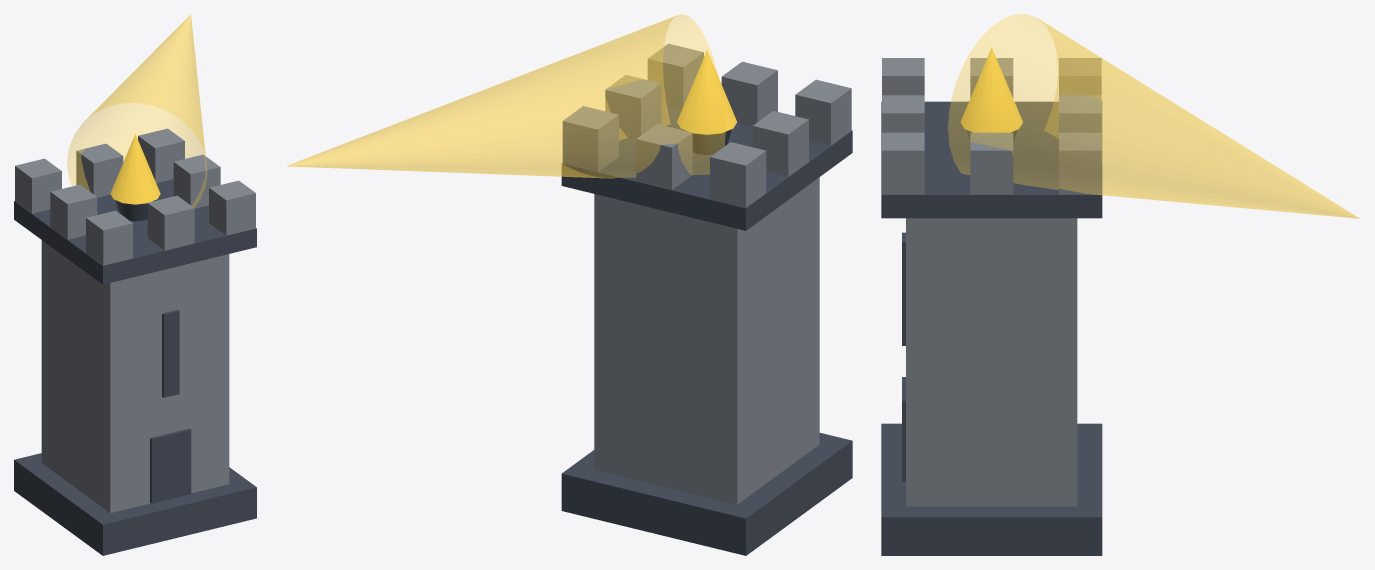
Rendered from watchtower-keep.glb.
The picture shows the model from 3 angles, left to right: view 1: azimuth 30°, elevation 25°; view 2: azimuth 150°, elevation 25°; view 3: azimuth 270°, elevation 25°; orthographic projection. The views are drawn at different scales.
Visible parts, largest first — view 1: tower-keep, searchlight; view 2: tower-keep, searchlight; view 3: tower-keep, searchlight.
Part boxes in pixels (bbox=[...]): tower-keep: bbox=[14, 128, 256, 555]; searchlight: bbox=[67, 14, 206, 207]; tower-keep: bbox=[561, 43, 852, 555]; searchlight: bbox=[286, 14, 725, 178]; tower-keep: bbox=[881, 48, 1102, 555]; searchlight: bbox=[948, 14, 1359, 218].
Size of the model in its own units: 2.83 by 3.82 by 3.36.
